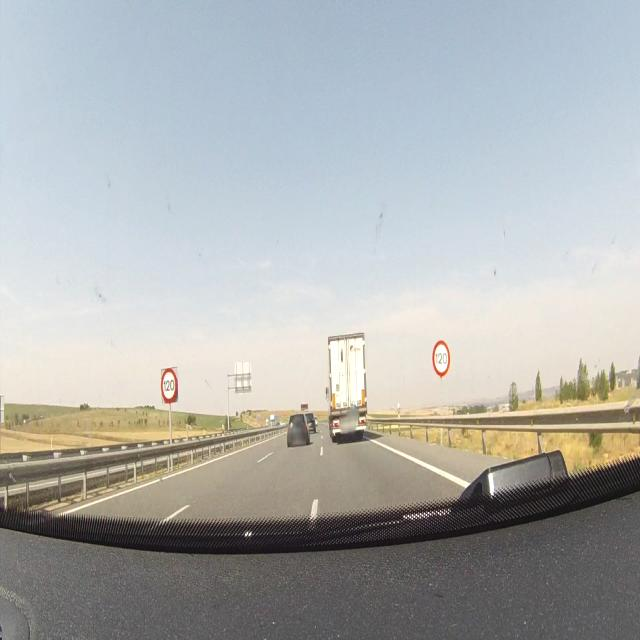car: (286, 410, 309, 446), (304, 410, 317, 432)
